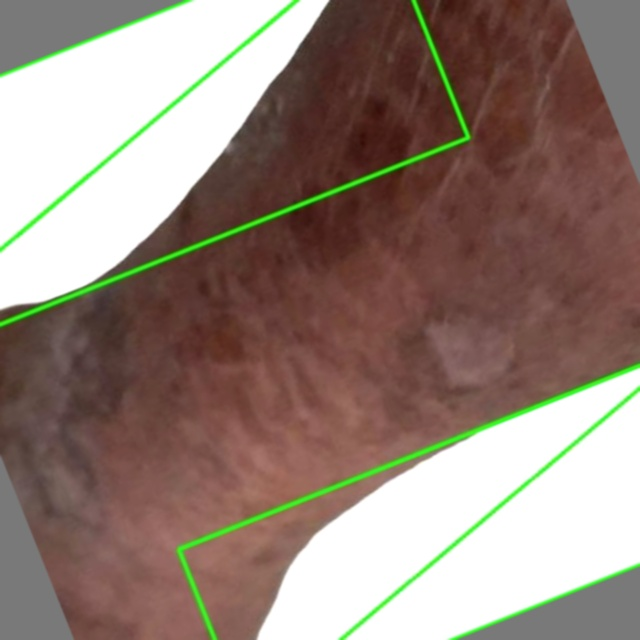Eczema: (0, 0, 639, 639), (0, 0, 468, 324), (178, 365, 639, 639)
